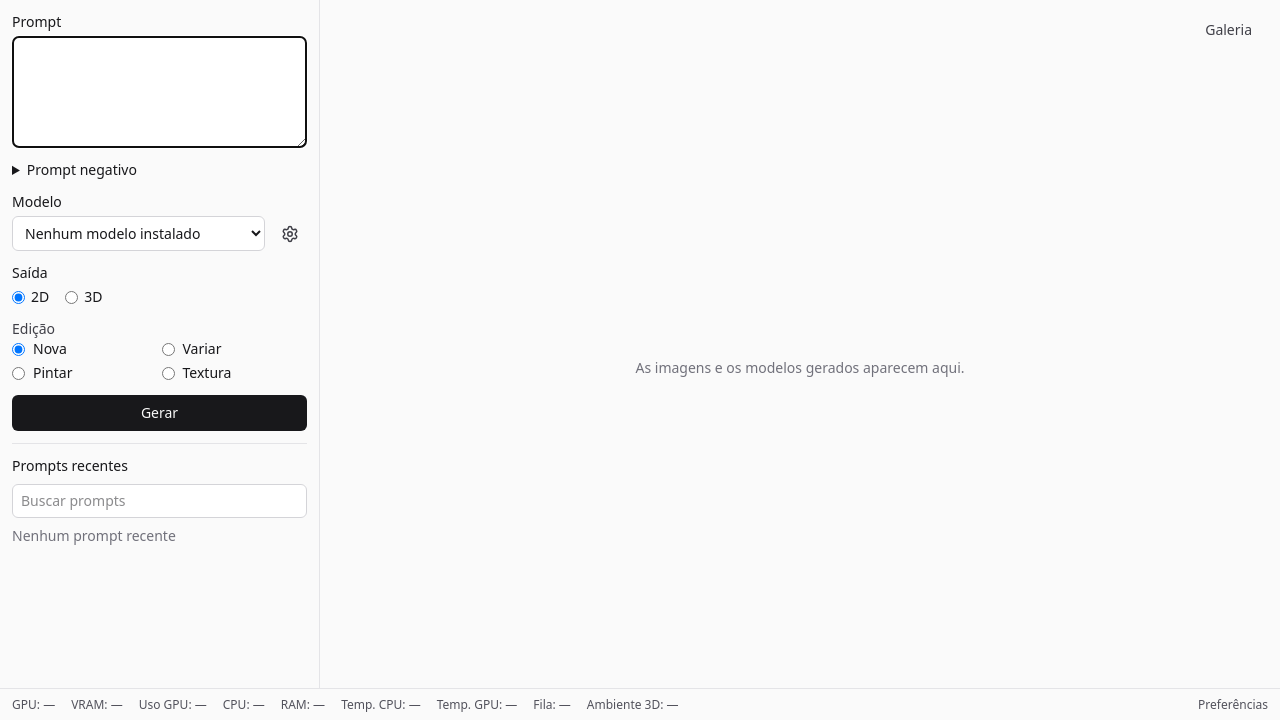
Test: App › abre as configurações, troca o idioma e o tema, e volta
Click the button "Preferências" at coordinates (1233, 704), box [1198,696,1268,712]
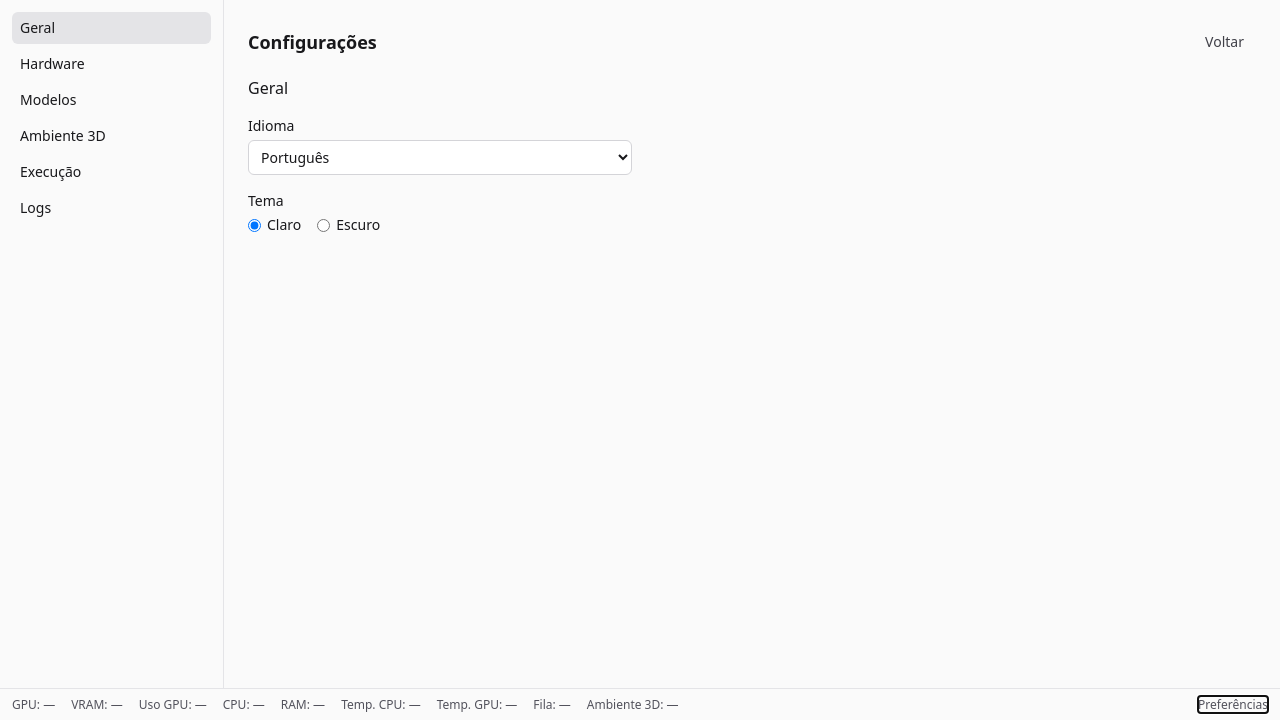
Check: the heading "Configurações" is shown, box [248,28,377,56]
Check: the button "Geral" is shown, box [12,12,211,44]
Check: the button "Hardware" is shown, box [12,48,211,80]
Select "English" in the dropdown labelled "Idioma" at coordinates (440, 158), box [248,140,632,175]
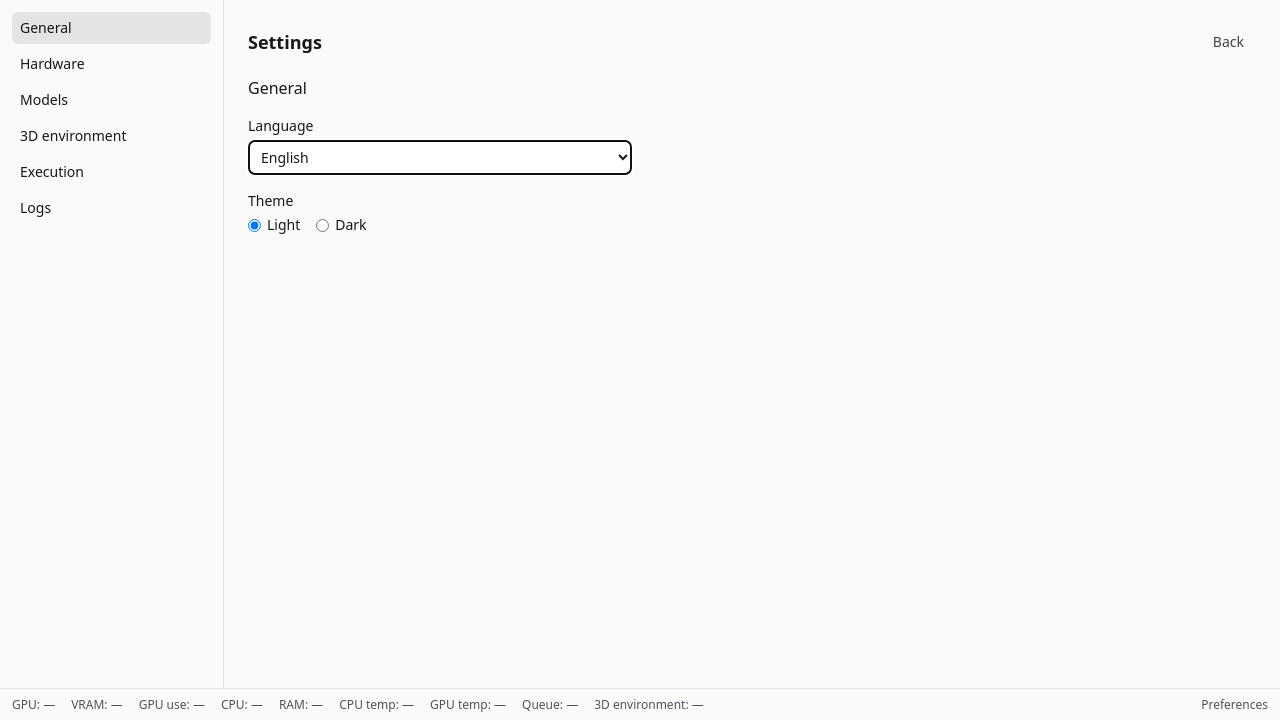
Check: the heading "Settings" is shown, box [248,28,322,56]
Click the radio button labelled "Dark" at coordinates (323, 225), box [316,218,329,232]
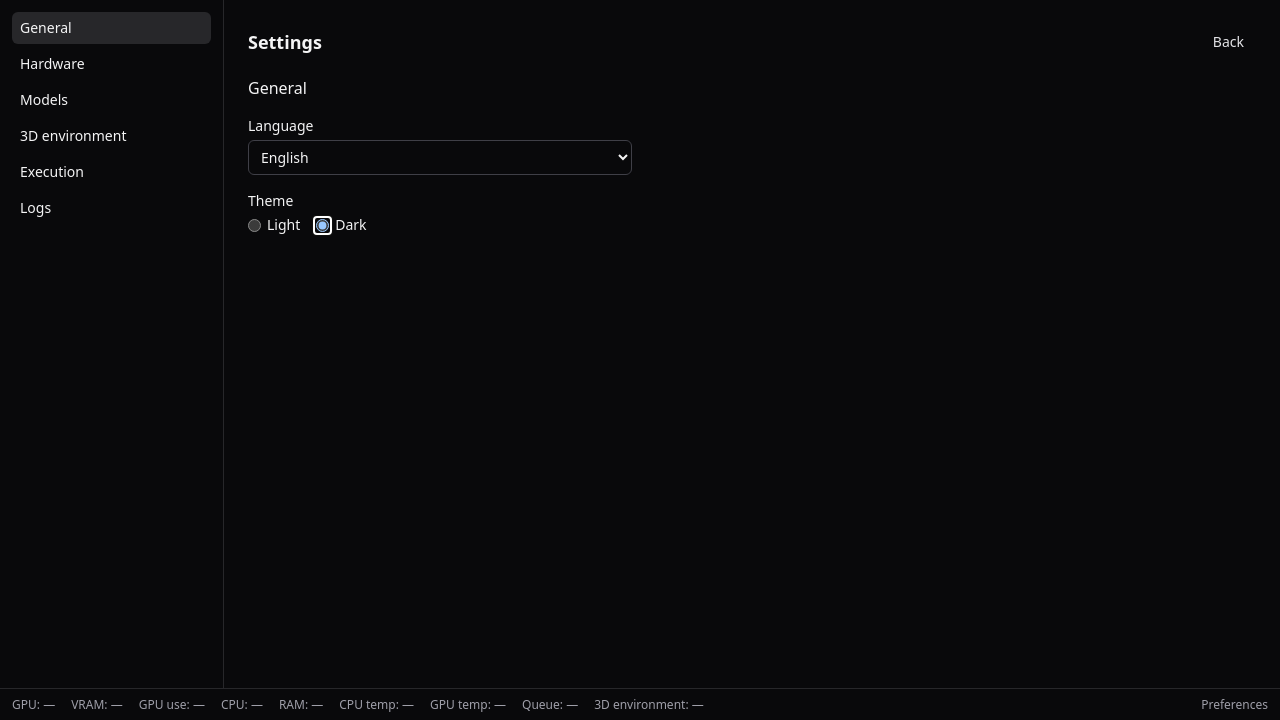
Click the radio button labelled "Light" at coordinates (254, 225), box [248,218,261,232]
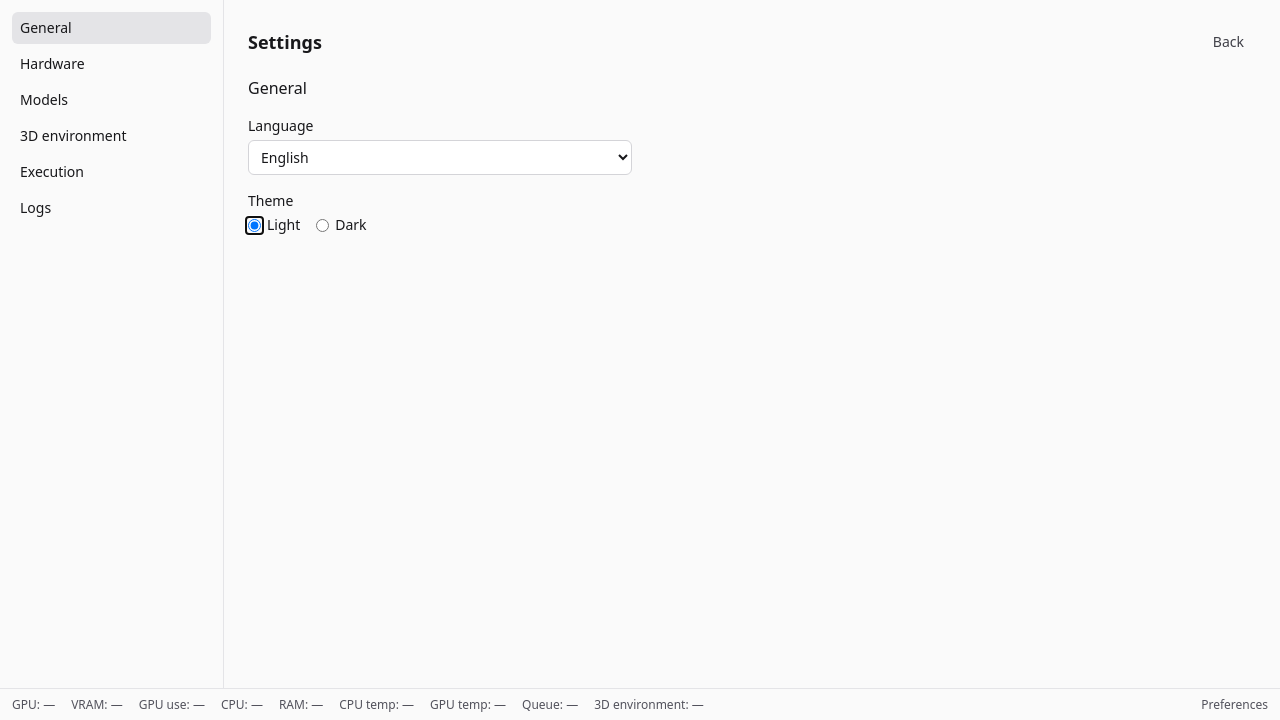
Click the button "Hardware" at coordinates (112, 64), box [12,48,211,80]
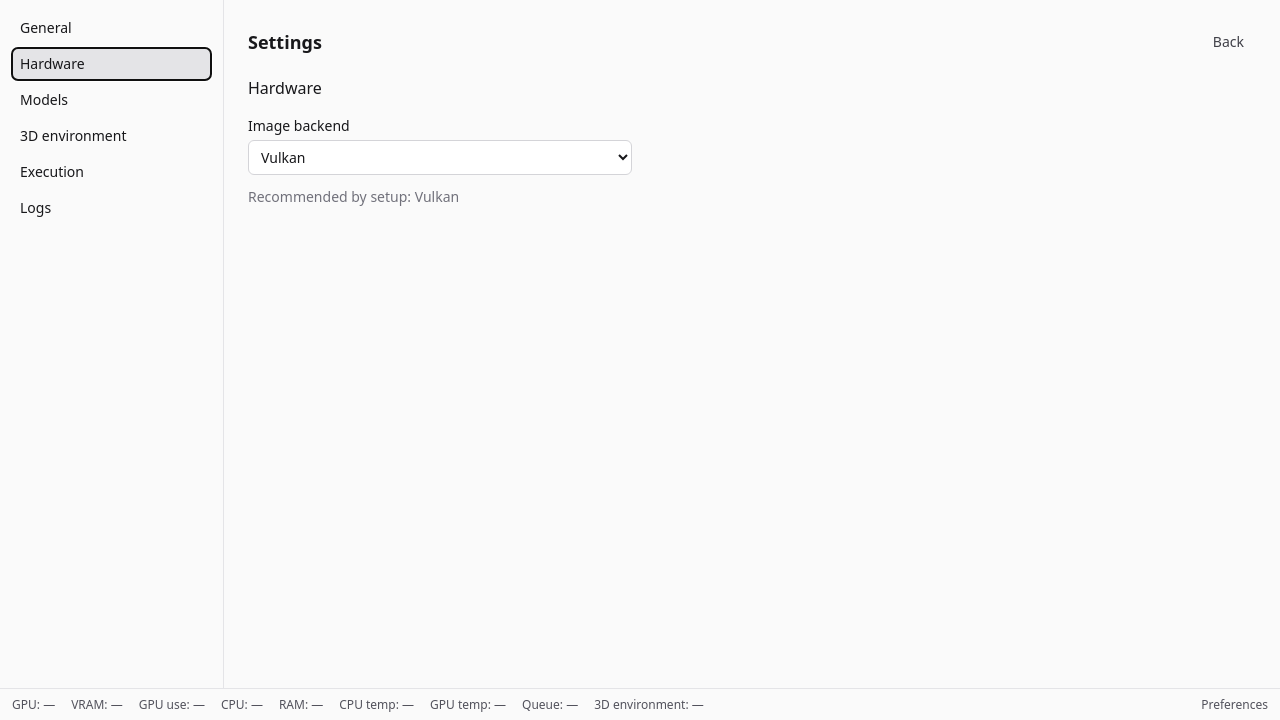
Check: the text "Recommended by setup: Vulkan" is shown, box [248,187,459,206]
Click the button "Back" at coordinates (1228, 42), box [1201,24,1256,60]
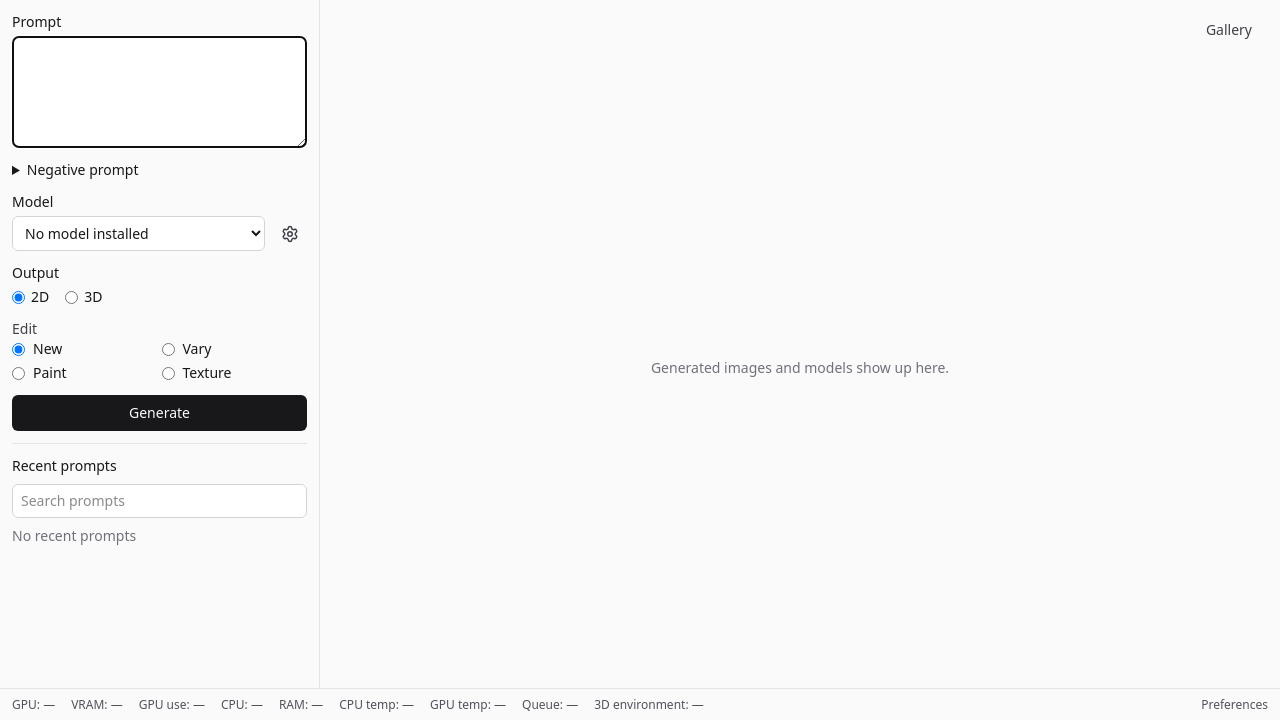
Check: the button "Generate" is shown, box [12,395,307,431]
